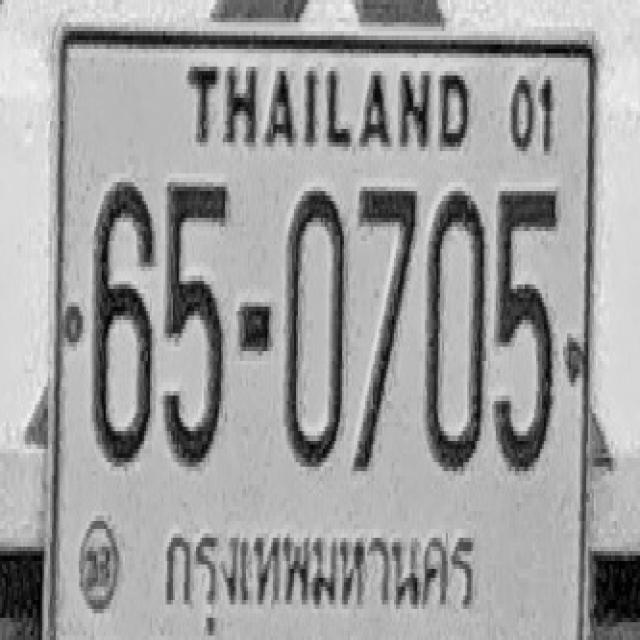0: (284, 185, 346, 464), (425, 184, 484, 469)
5: (164, 178, 230, 467), (494, 184, 559, 469)
6: (93, 178, 155, 462)
7: (354, 182, 417, 471)
Bangkok: (158, 508, 488, 640)
